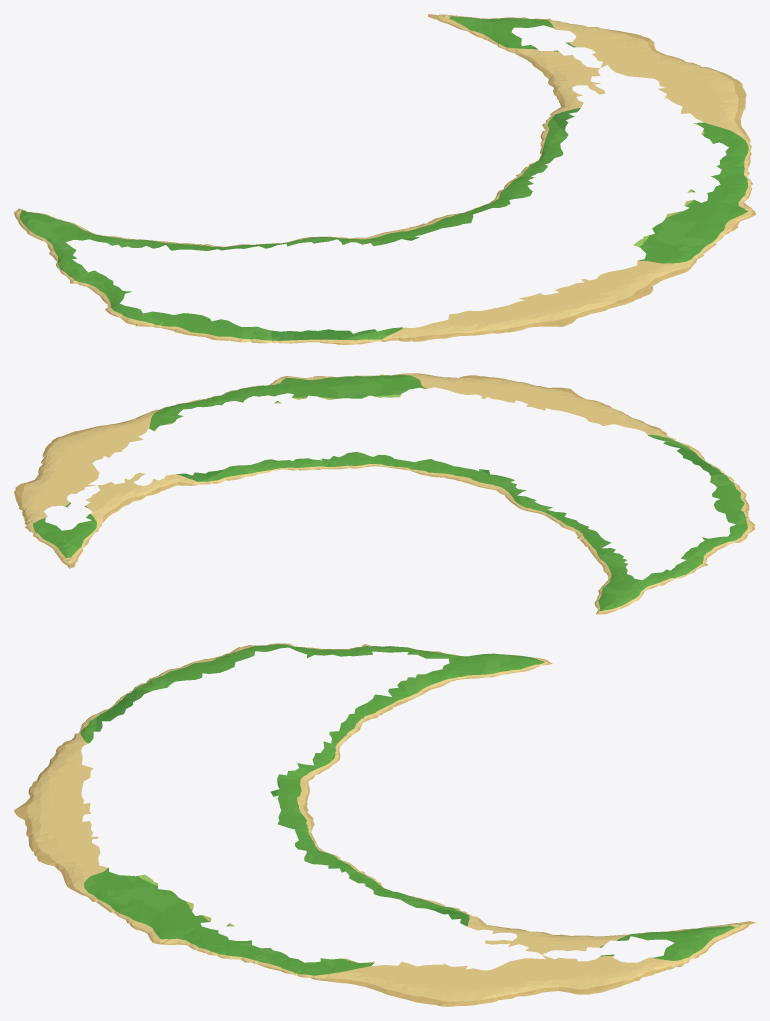
Rendered from Isl-crescent4-Ground.fbx.
3 views of the same model, one above another, from view 1: azimuth 30°, elevation 25°; view 2: azimuth 150°, elevation 25°; view 3: azimuth 270°, elevation 25° (orthographic). The views are drawn at different scales.
Parts seen in each view (by area): view 1: Isl-crescent4-Ground-c21, Isl-crescent4-Ground-c11, Isl-crescent4-Ground-c22, Isl-crescent4-Ground-c20, Isl-crescent4-Ground-c10; view 2: Isl-crescent4-Ground-c21, Isl-crescent4-Ground-c11, Isl-crescent4-Ground-c22, Isl-crescent4-Ground-c20, Isl-crescent4-Ground-c10; view 3: Isl-crescent4-Ground-c21, Isl-crescent4-Ground-c11, Isl-crescent4-Ground-c22, Isl-crescent4-Ground-c20, Isl-crescent4-Ground-c10, Isl-crescent4-Ground-c31.
Boxes of the visible parts, x1,y1,x2,y2 form: Isl-crescent4-Ground-c21: [425, 61, 755, 303]; Isl-crescent4-Ground-c11: [19, 215, 532, 344]; Isl-crescent4-Ground-c22: [428, 14, 684, 94]; Isl-crescent4-Ground-c20: [534, 267, 688, 326]; Isl-crescent4-Ground-c10: [400, 302, 562, 341]; Isl-crescent4-Ground-c21: [41, 373, 544, 492]; Isl-crescent4-Ground-c11: [447, 403, 755, 607]; Isl-crescent4-Ground-c22: [14, 464, 158, 568]; Isl-crescent4-Ground-c20: [413, 373, 569, 404]; Isl-crescent4-Ground-c10: [545, 389, 666, 433]; Isl-crescent4-Ground-c21: [65, 806, 520, 1002]; Isl-crescent4-Ground-c11: [64, 643, 520, 810]; Isl-crescent4-Ground-c22: [516, 921, 755, 996]; Isl-crescent4-Ground-c20: [14, 806, 76, 887]; Isl-crescent4-Ground-c10: [14, 740, 75, 810]; Isl-crescent4-Ground-c31: [407, 995, 495, 1006].
Bounding box in the file's own units: 101 × 0.4899 × 86.96.
